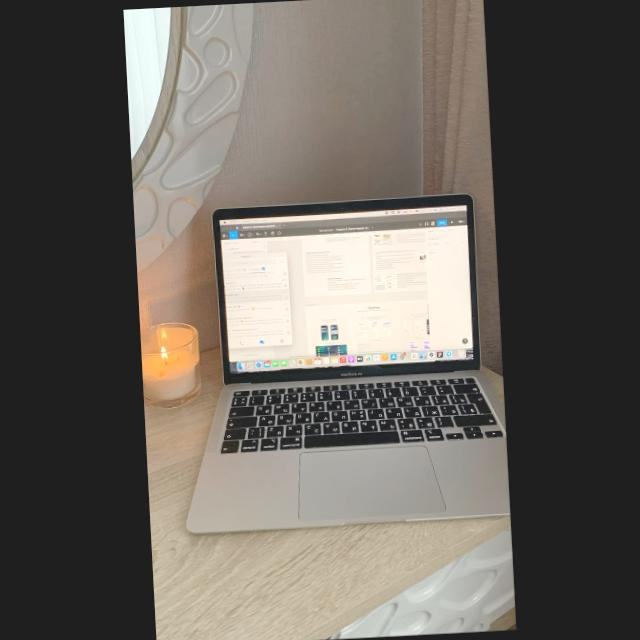laptop: (187, 194, 509, 534)
